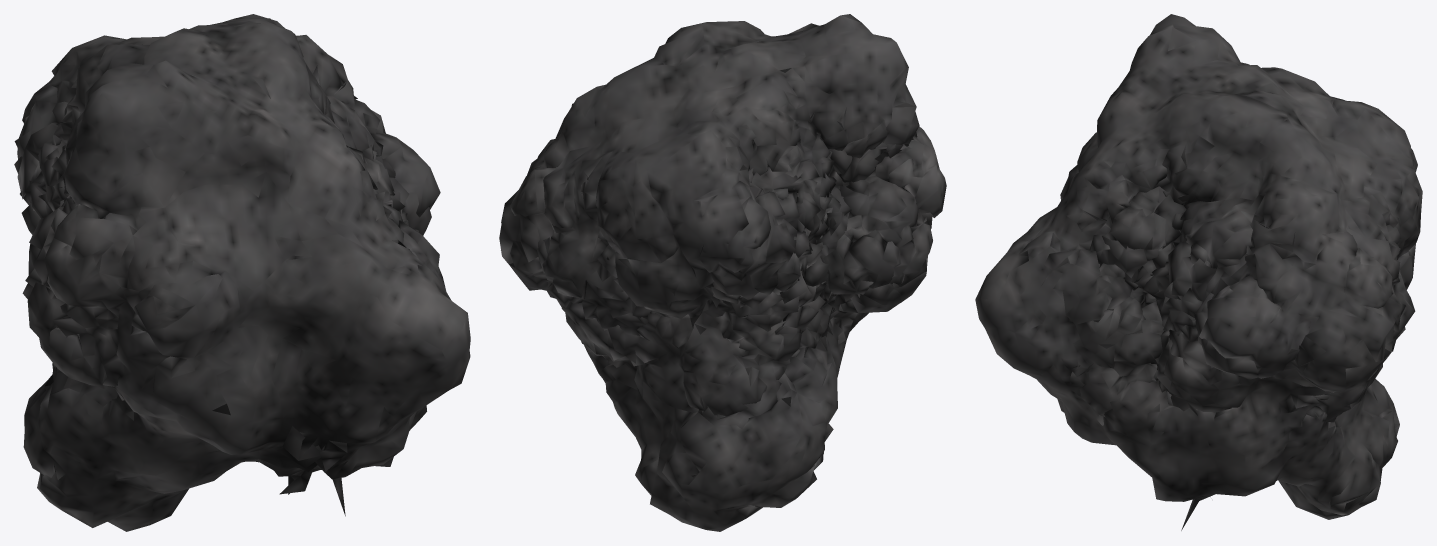
The model's file is large_b.glb.
The picture shows the model from 3 angles, left to right: view 1: azimuth 30°, elevation 25°; view 2: azimuth 150°, elevation 25°; view 3: azimuth 270°, elevation 25°; orthographic projection. The views are drawn at different scales.
Parts seen in each view (by area): view 1: AsteroidLargeB; view 2: AsteroidLargeB; view 3: AsteroidLargeB.
Part boxes in pixels (<box>): AsteroidLargeB: <box>14,14,470,531</box>; AsteroidLargeB: <box>499,14,946,531</box>; AsteroidLargeB: <box>975,14,1422,530</box>.
Size of the model in its own units: 1.4 by 1.71 by 1.49.
Materials: 1 (1 with a texture image).
